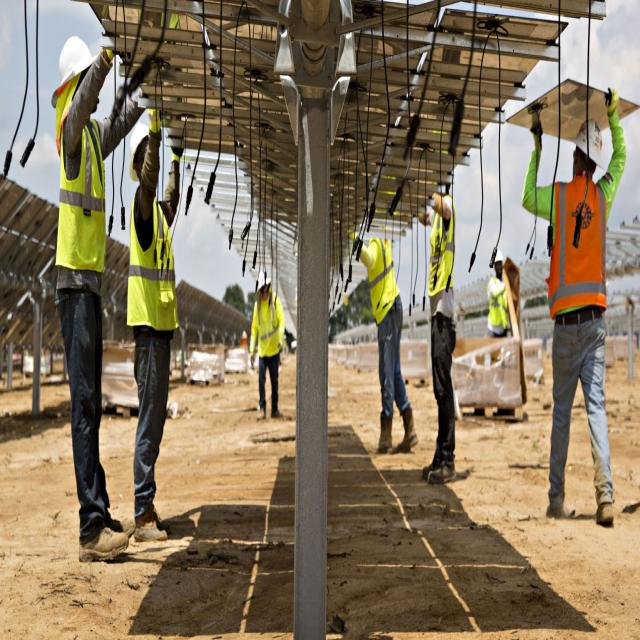Reflective-Jacket: (52, 108, 110, 275), (545, 175, 608, 321), (125, 187, 181, 335), (366, 232, 400, 324), (426, 209, 456, 297), (251, 288, 286, 356), (487, 274, 510, 330)
Safety-Helmet: (52, 30, 98, 94), (570, 112, 610, 170), (256, 266, 274, 288), (441, 191, 454, 215)
